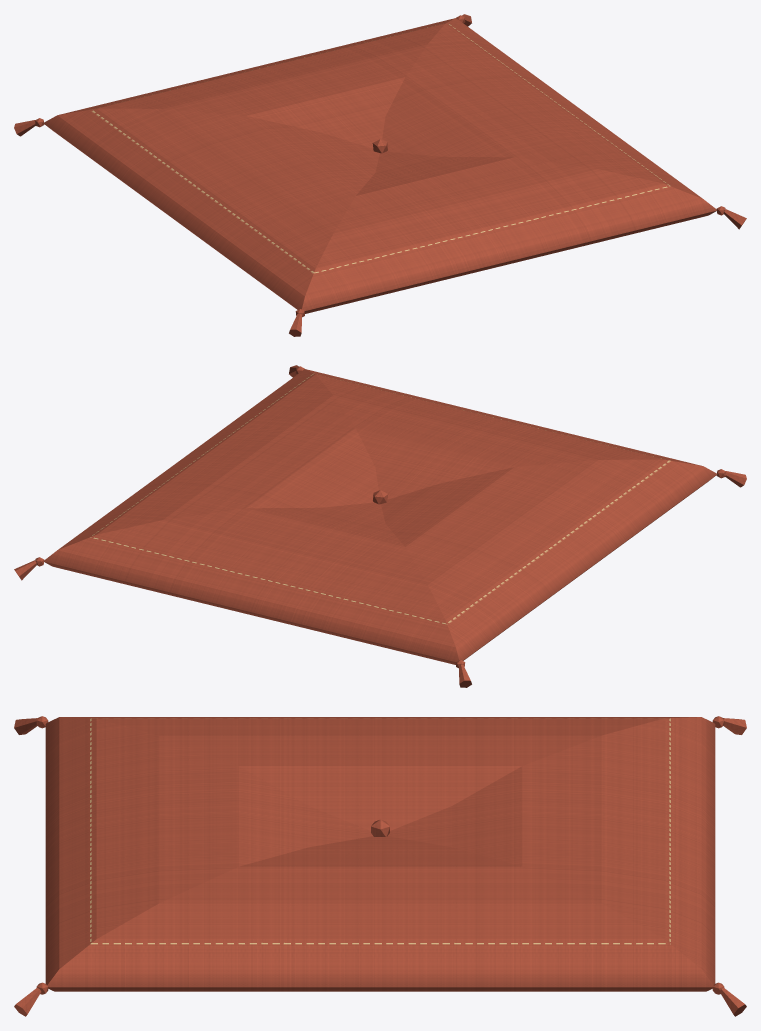
The model's file is 02C_Zabuton_Izq.fbx.
The picture shows the model from 3 angles, top to bottom: view 1: azimuth 30°, elevation 25°; view 2: azimuth 150°, elevation 25°; view 3: azimuth 270°, elevation 25°; orthographic projection. The views are drawn at different scales.
Visible parts, largest first — view 1: LAY_02C_Zabuton_Oxido; view 2: LAY_02C_Zabuton_Oxido; view 3: LAY_02C_Zabuton_Oxido.
Boxes of the visible parts, x1,y1,x2,y2 form: LAY_02C_Zabuton_Oxido: (14,14,746,336); LAY_02C_Zabuton_Oxido: (14,365,746,687); LAY_02C_Zabuton_Oxido: (14,716,746,1016).
Bounding box in the file's own units: 0.603 × 0.06 × 0.6459.
